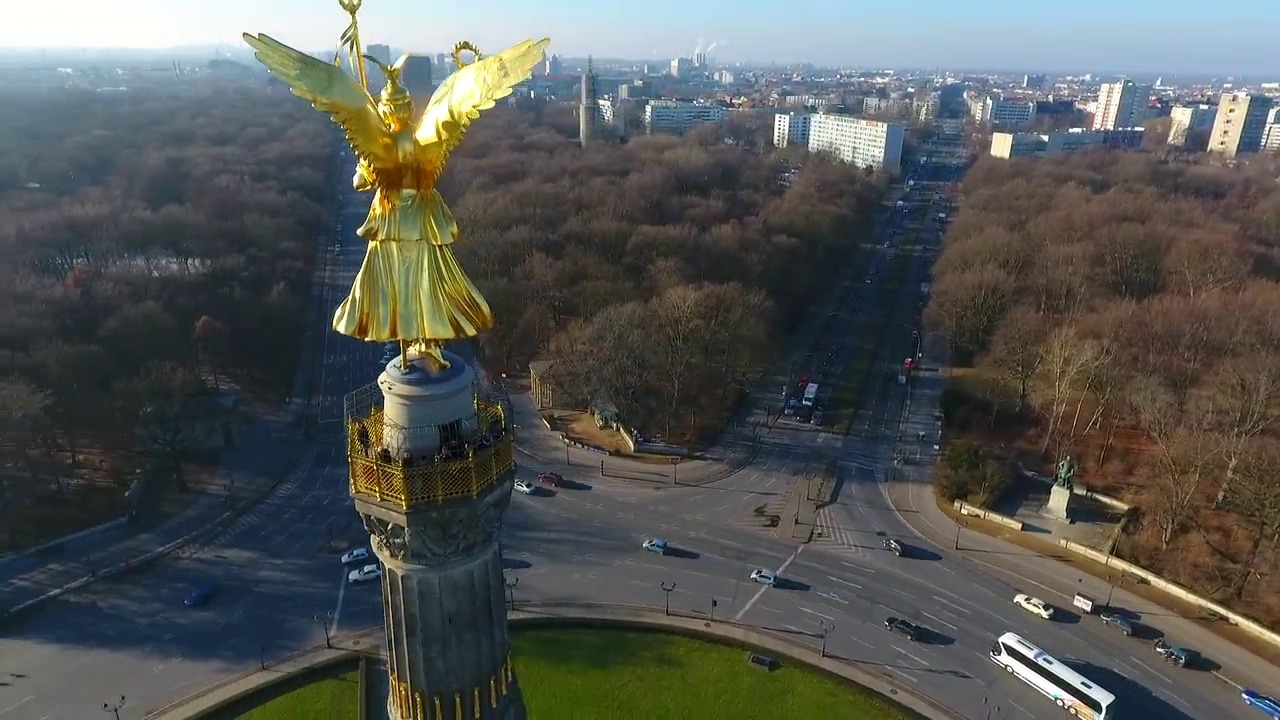bus: (984, 628, 1120, 720)
car: (1011, 587, 1059, 621), (746, 561, 783, 591), (638, 532, 675, 557), (336, 543, 375, 566)
